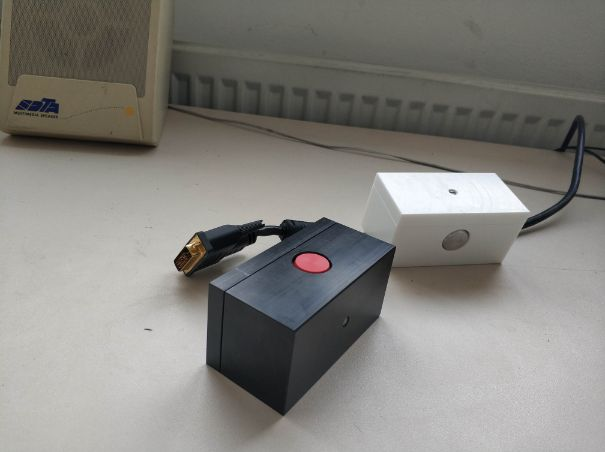black+black+red: (204, 215, 400, 415)
white+white+silver: (357, 169, 531, 275)
